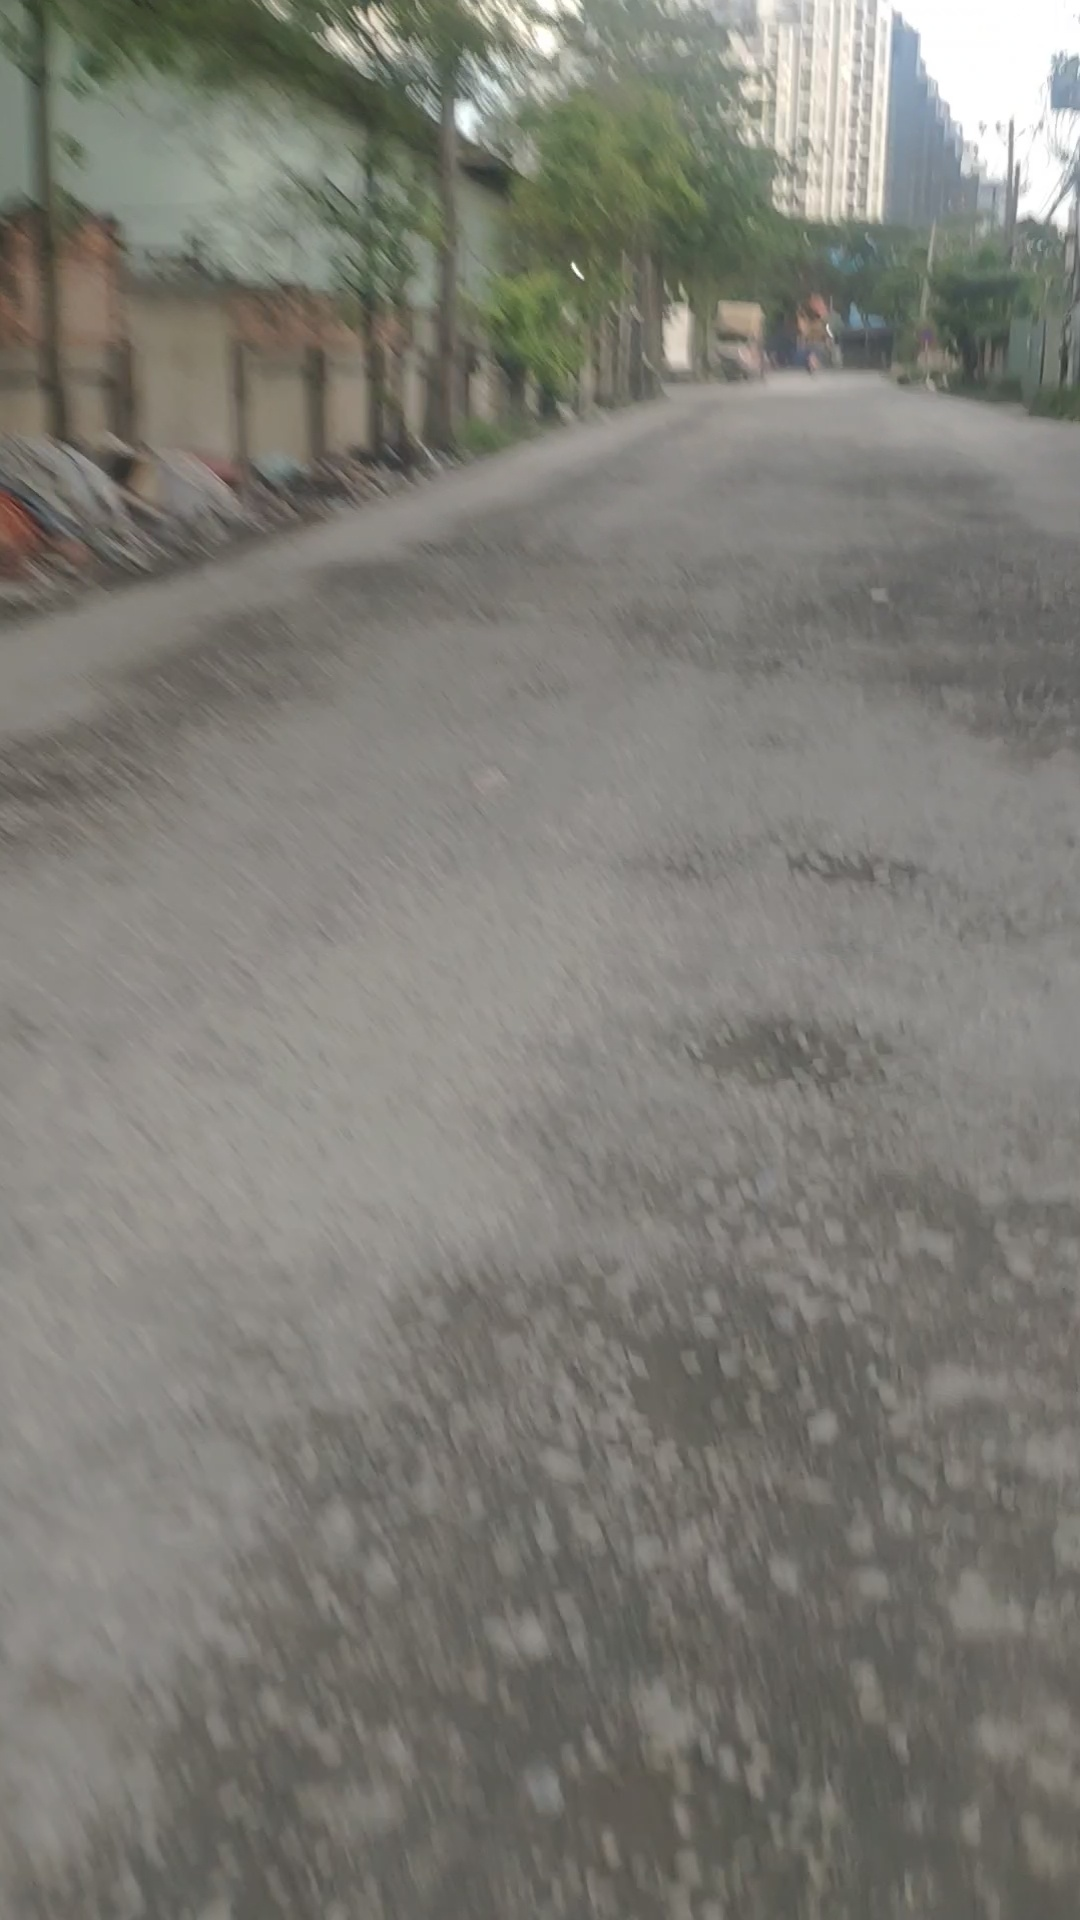hole: (613, 982, 919, 1118), (760, 829, 1052, 956), (882, 658, 1080, 764)
